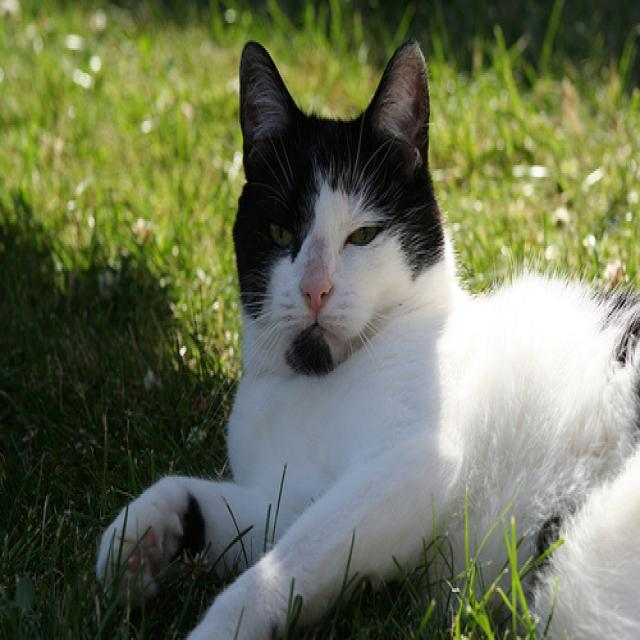cat: (96, 38, 640, 639)
